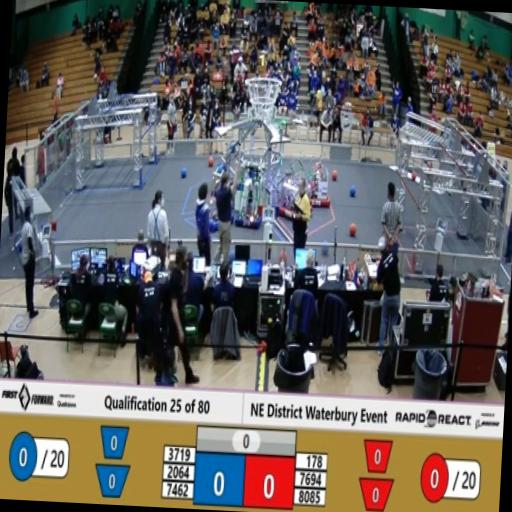robot: (198, 158, 232, 234)
